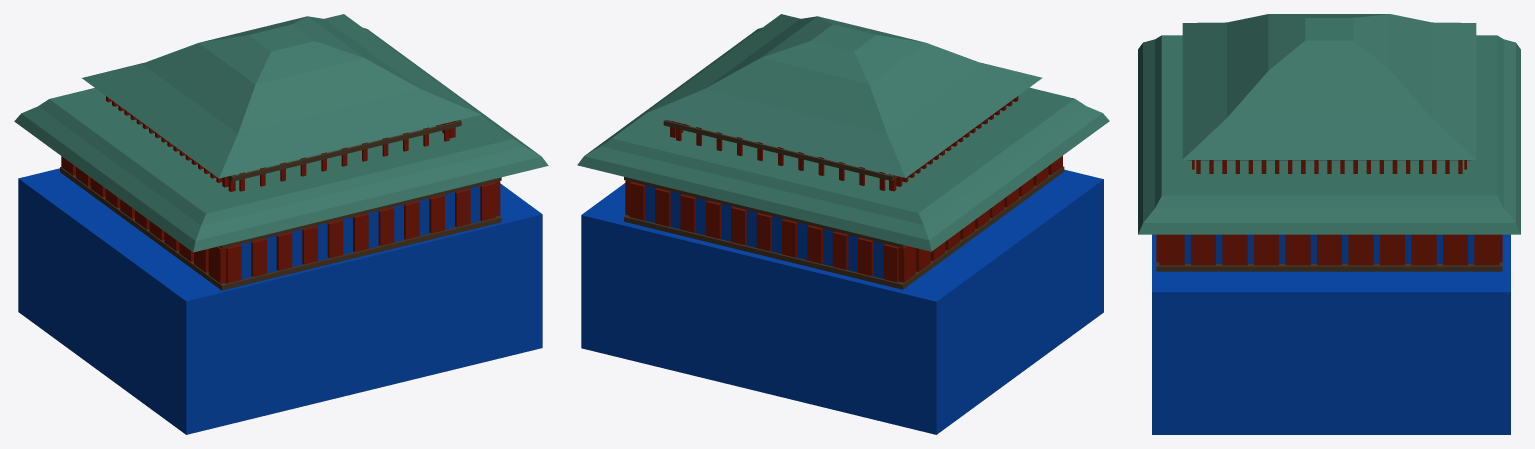
File: Low tower 2.fbx
3 renders of one model, left to right at view 1: azimuth 30°, elevation 25°; view 2: azimuth 150°, elevation 25°; view 3: azimuth 270°, elevation 25°, orthographic. The views are drawn at different scales.
Parts seen in each view (by area): view 1: 立方体.034, 立方体.027, 立方体.026, 立方体.030, 立方体.025, 立方体.029, 立方体.031, 立方体.032, 立方体.028; view 2: 立方体.034, 立方体.027, 立方体.026, 立方体.030, 立方体.025, 立方体.029, 立方体.031, 立方体.032, 立方体.028; view 3: 立方体.034, 立方体.027, 立方体.026, 立方体.030, 立方体.029, 立方体.025, 立方体.031.
Boxes of the visible parts, bbox=[...] form: 立方体.034: bbox=[18, 168, 542, 434]; 立方体.027: bbox=[82, 14, 480, 178]; 立方体.026: bbox=[14, 27, 548, 252]; 立方体.030: bbox=[61, 156, 500, 283]; 立方体.025: bbox=[225, 186, 481, 283]; 立方体.029: bbox=[60, 167, 501, 290]; 立方体.031: bbox=[106, 96, 455, 191]; 立方体.032: bbox=[226, 120, 461, 181]; 立方体.028: bbox=[219, 177, 501, 248]; 立方体.034: bbox=[581, 169, 1103, 434]; 立方体.027: bbox=[644, 14, 1042, 177]; 立方体.026: bbox=[577, 27, 1109, 251]; 立方体.030: bbox=[625, 156, 1062, 282]; 立方体.025: bbox=[644, 185, 899, 282]; 立方体.029: bbox=[624, 166, 1064, 289]; 立方体.031: bbox=[670, 96, 1018, 191]; 立方体.032: bbox=[663, 119, 898, 180]; 立方体.028: bbox=[624, 177, 905, 247]; 立方体.034: bbox=[1152, 234, 1510, 434]; 立方体.027: bbox=[1182, 14, 1476, 159]; 立方体.026: bbox=[1138, 35, 1520, 234]; 立方体.030: bbox=[1156, 234, 1502, 265]; 立方体.029: bbox=[1156, 262, 1502, 271]; 立方体.025: bbox=[1184, 234, 1474, 263]; 立方体.031: bbox=[1192, 160, 1466, 173].
Size of the model in its own units: 200 by 157 by 174.
